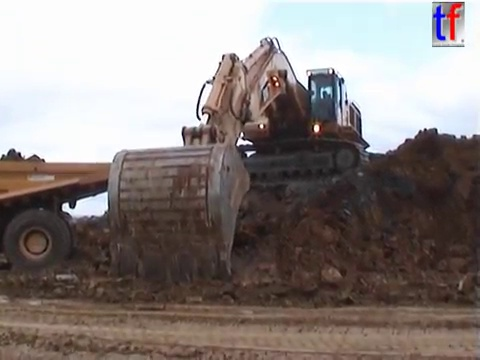excavator: (104, 33, 374, 284)
truck: (1, 155, 158, 278)
